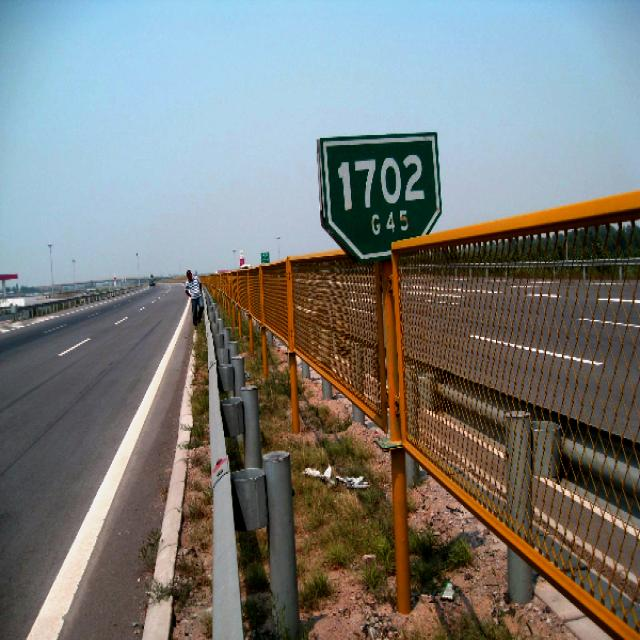Guard rail: (207, 310, 244, 639)
